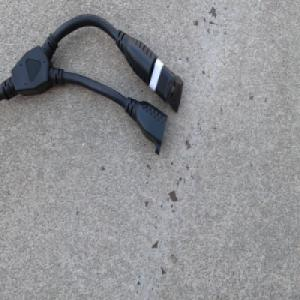Wire: (0, 12, 184, 155)
